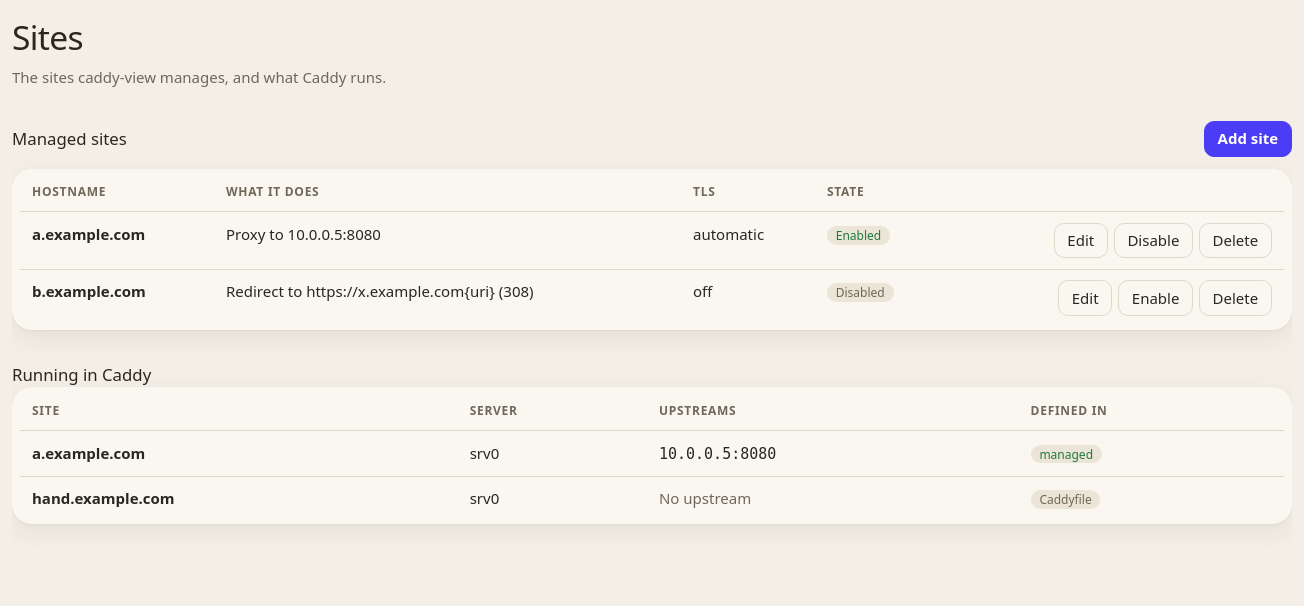
Test: SitesView enabling, disabling and deleting › disables an enabled site by putting it back with enabled off
The image size is (1304, 606).
Expected: the heading "Sites" is shown, [12,14,83,60]
Expected: the text "a.example.com" next to "Proxy to 10.0.0.5:8080" is shown, [32,224,145,244]
What coordinates should you click on to do the following:
click the button with aria-label "Disable a.example.com"
I would click on:
 (1153, 241)
Its box is [1114,223,1193,258].
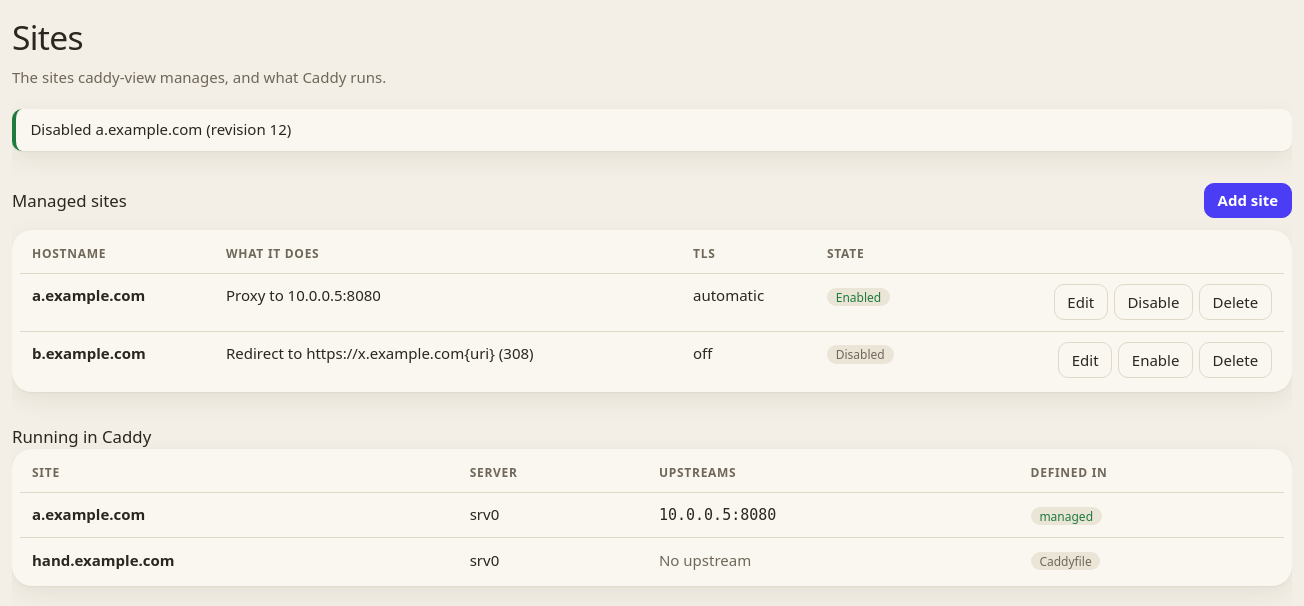
Now the message shows "Disabled a.example.com", box [30,120,291,140]
